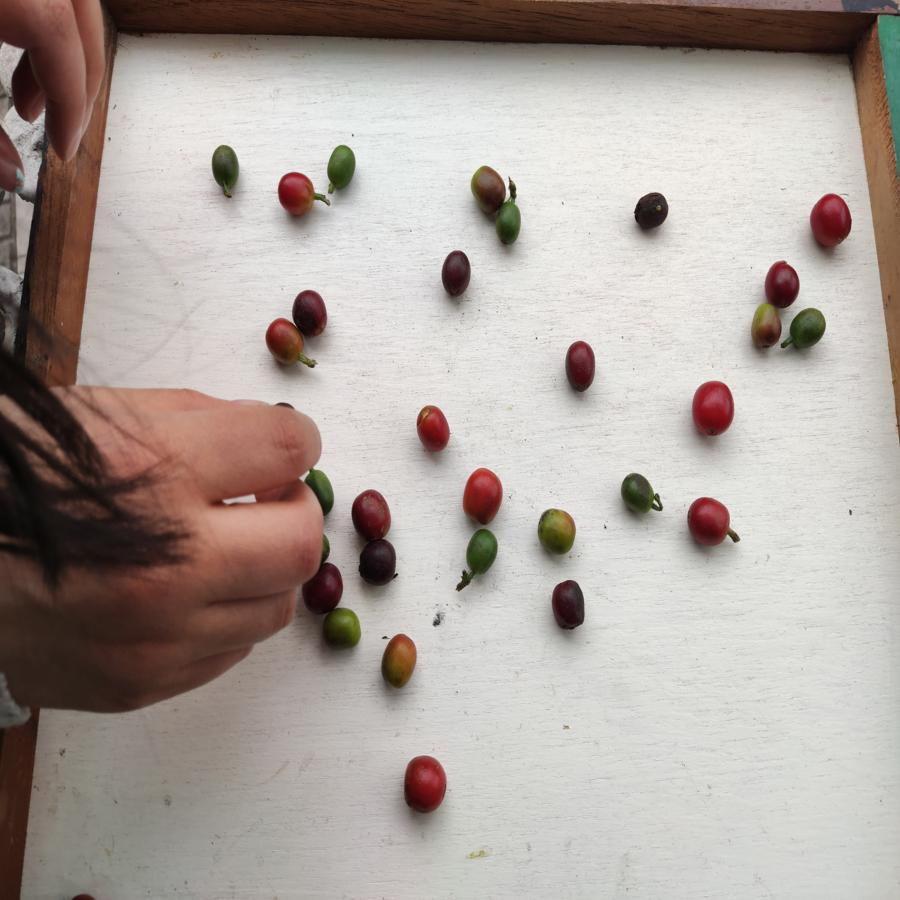Inmaduro: (208, 143, 241, 194), (620, 471, 657, 516), (464, 528, 499, 573), (790, 308, 826, 350), (327, 144, 359, 187), (496, 203, 523, 245)
Maduro: (401, 753, 448, 812), (461, 466, 506, 525), (684, 495, 733, 547), (691, 378, 734, 437), (810, 191, 855, 247), (412, 404, 452, 454), (275, 171, 316, 218)
Pinton: (533, 507, 580, 558), (381, 633, 418, 690), (322, 607, 364, 654), (469, 165, 510, 211), (265, 320, 304, 365), (748, 300, 779, 351)
Sobremaduro: (349, 486, 394, 542), (760, 257, 802, 305), (550, 580, 587, 633), (563, 338, 598, 393), (291, 288, 328, 338), (357, 542, 398, 587), (438, 248, 474, 297), (308, 569, 346, 608), (632, 191, 669, 229)
